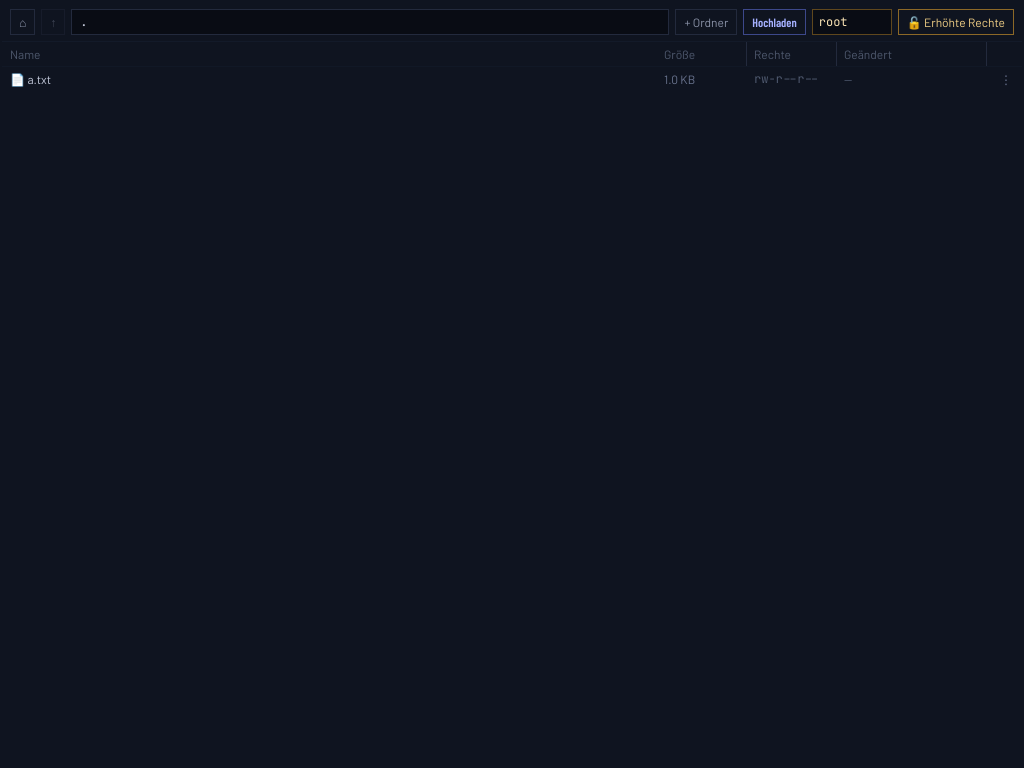
Test: FileBrowserPanel elevated mode (Spec 0067, A5) › explains a missing sudo rule with the tailored sudoers line and an honest warning
Check: the text "📄 a.txt" is shown, box [10,72,51,86]
Step 1. Click the button "🔓 Erhöhte Rechte" → (956, 22), box [898,8,1014,34]
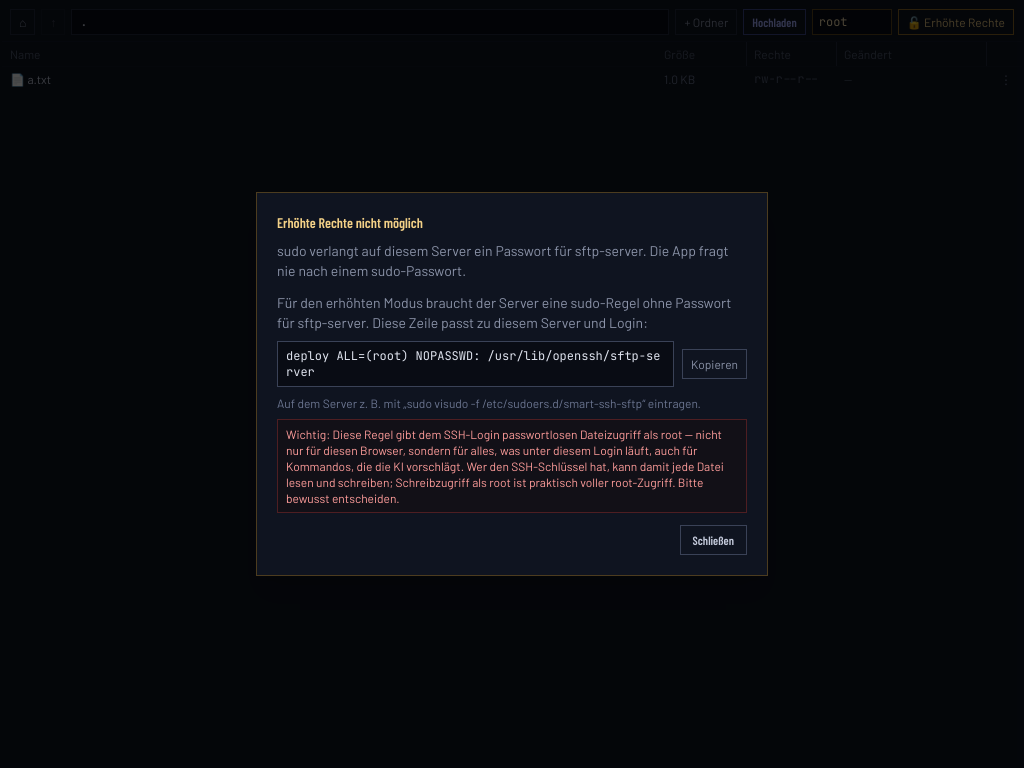
Check: the text "deploy ALL=(root) NOPASSWD: /usr/lib/openssh/sftp-server" is shown, box [277,341,674,387]
Check: the text "passwortlosen Dateizugriff als root" is shown, box [286,427,724,505]
